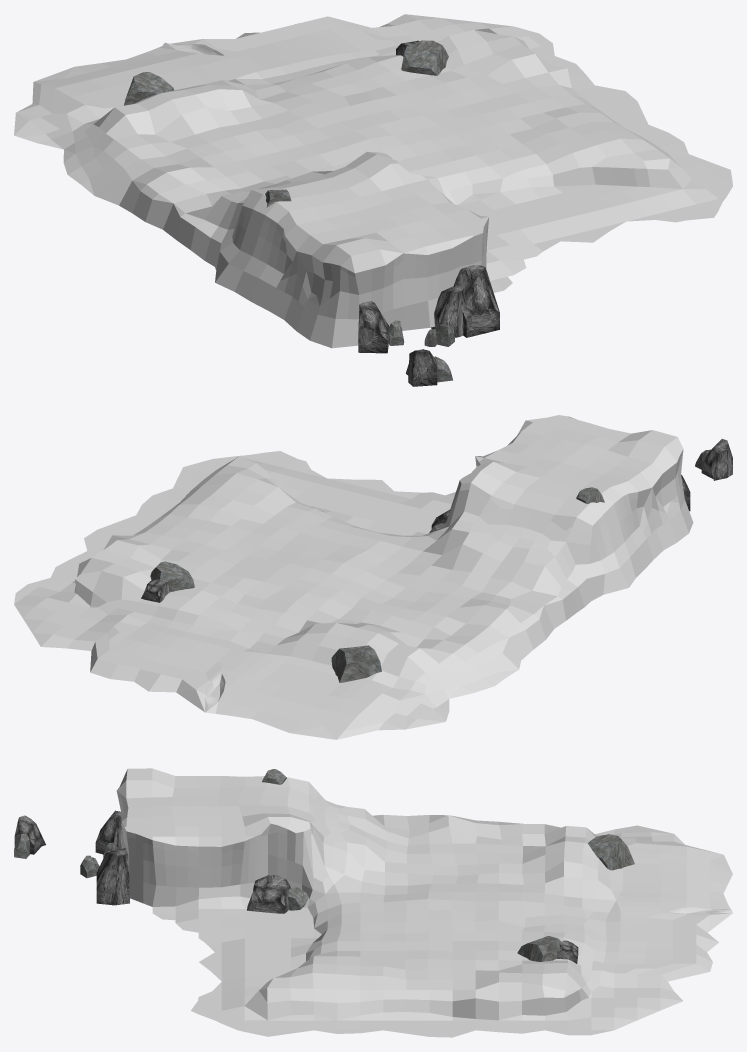
File: island1.fbx
The picture shows the model from 3 angles, top to bottom: view 1: azimuth 30°, elevation 25°; view 2: azimuth 150°, elevation 25°; view 3: azimuth 270°, elevation 25°; orthographic projection. The views are drawn at different scales.
Visible parts, largest first — view 1: Grasstexture.001; view 2: Grasstexture.001; view 3: Grasstexture.001.
Boxes of the visible parts, left/top/right/bottom form: Grasstexture.001: left=14, top=14, right=732, bottom=386; Grasstexture.001: left=14, top=415, right=732, bottom=739; Grasstexture.001: left=14, top=768, right=732, bottom=1037.
Bounding box in the file's own units: 10867 × 1971 × 15570.
